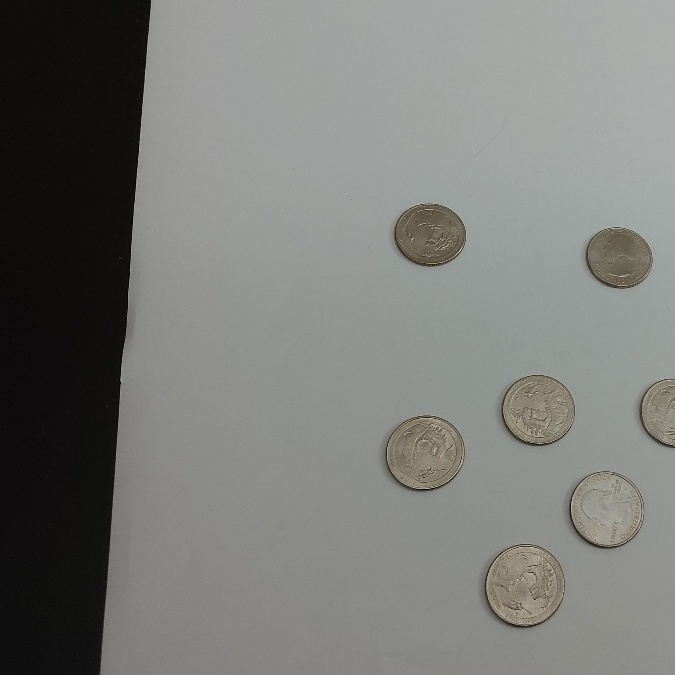coin_quarter: (478, 536, 566, 630), (562, 471, 651, 551), (380, 413, 468, 493), (500, 368, 579, 446), (389, 198, 468, 270), (581, 220, 660, 292)
